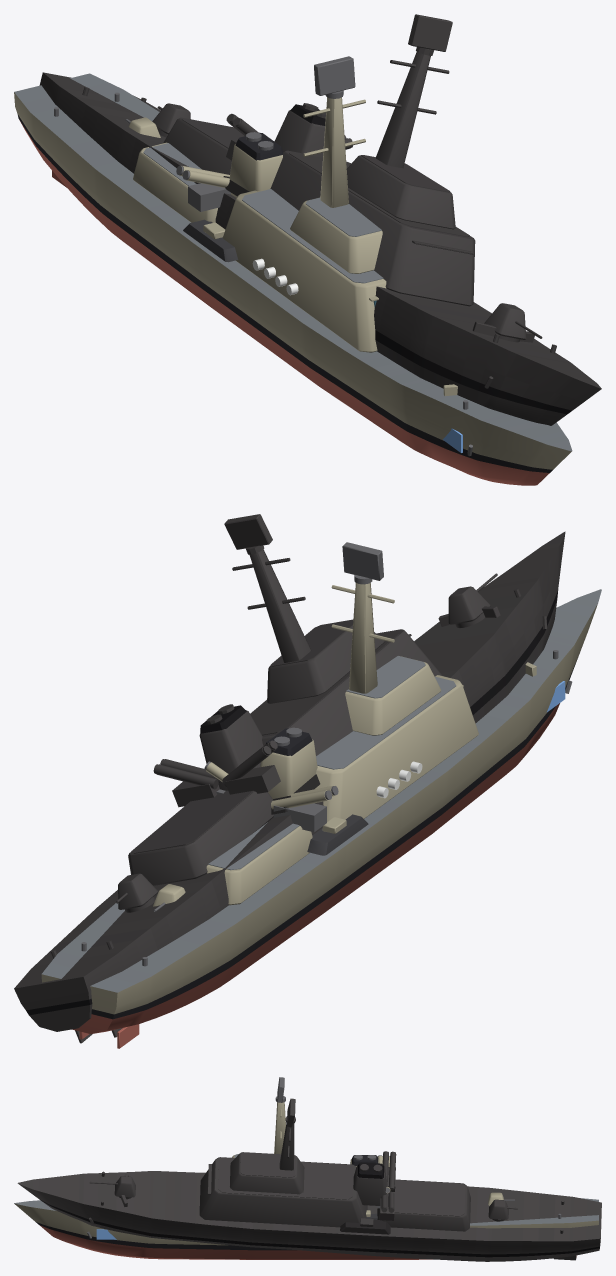
The model's file is kcr60__kcr_60.glb.
The picture shows the model from 3 angles, top to bottom: view 1: azimuth 30°, elevation 25°; view 2: azimuth 150°, elevation 25°; view 3: azimuth 270°, elevation 25°; orthographic projection. The views are drawn at different scales.
Visible parts, largest first — view 1: Hull_Mesh, Wreck, Radar_Mesh; view 2: Hull_Mesh, Wreck, Radar_Mesh; view 3: Wreck, Hull_Mesh.
Boxes of the visible parts, bbox=[...] form: Hull_Mesh: bbox=[14, 73, 572, 485]; Wreck: bbox=[39, 14, 601, 425]; Radar_Mesh: bbox=[314, 56, 355, 98]; Hull_Mesh: bbox=[41, 583, 601, 1048]; Wreck: bbox=[14, 514, 565, 1043]; Radar_Mesh: bbox=[342, 542, 383, 584]; Wreck: bbox=[17, 1098, 601, 1261]; Hull_Mesh: bbox=[14, 1102, 598, 1259].
Size of what is drawn, in the model's own units: 13.12 by 21.51 by 62.82.
